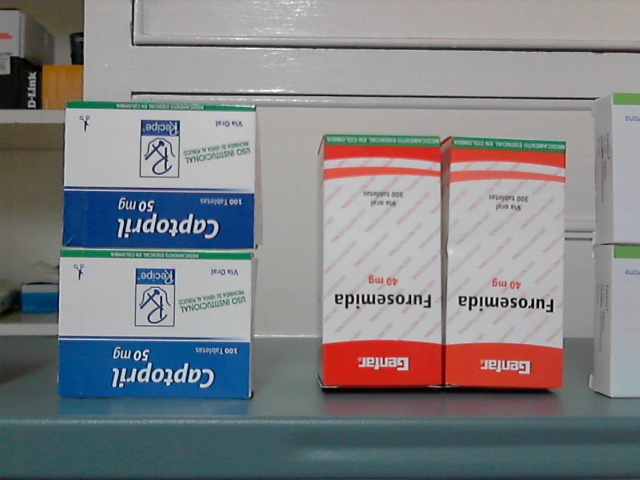Genfar: (322, 134, 444, 386), (451, 137, 564, 388)
